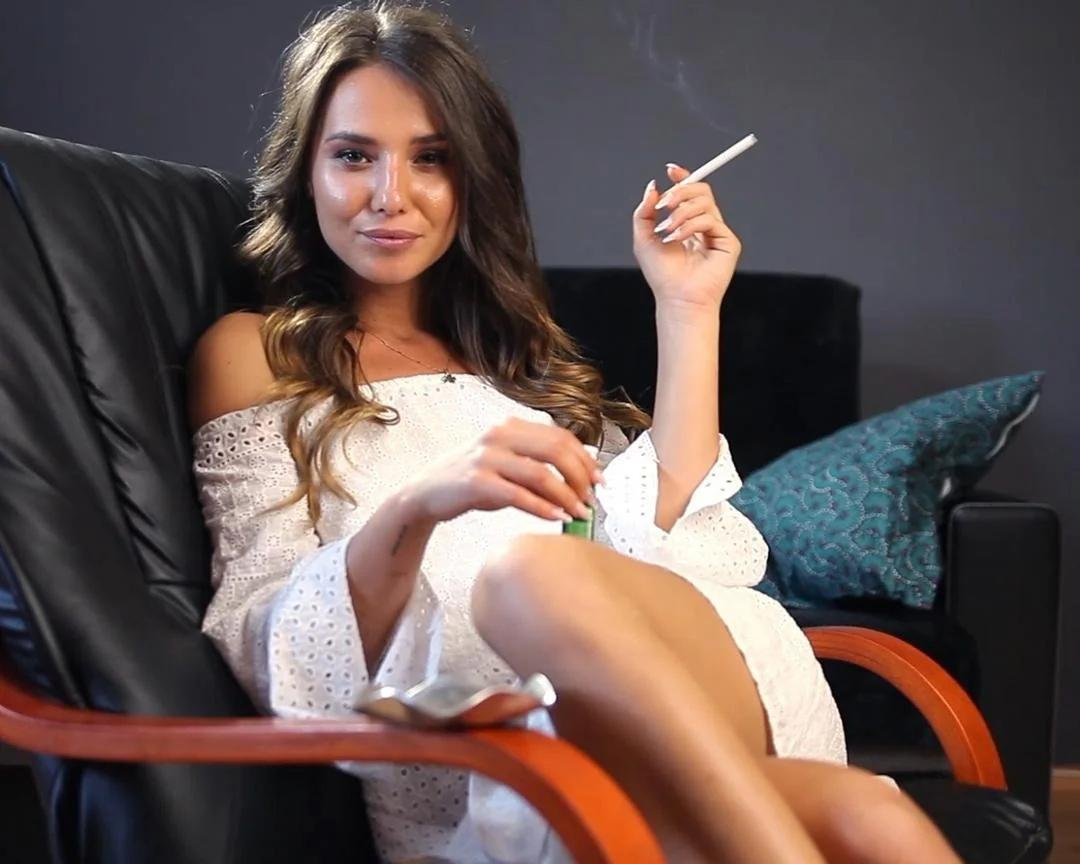cigarette: (677, 133, 757, 185)
